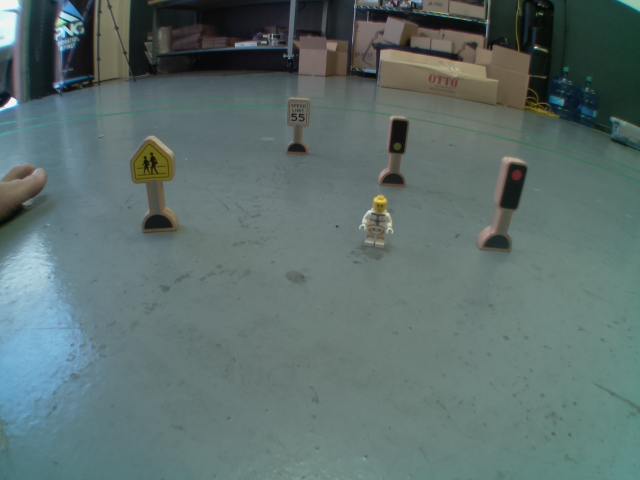Green Traffic Light: (384, 114, 409, 157)
Red Traffic Light: (499, 158, 528, 212)
Speed Limit 55: (286, 97, 310, 129)
YIELD: (128, 135, 174, 185)
person: (358, 193, 397, 249)
